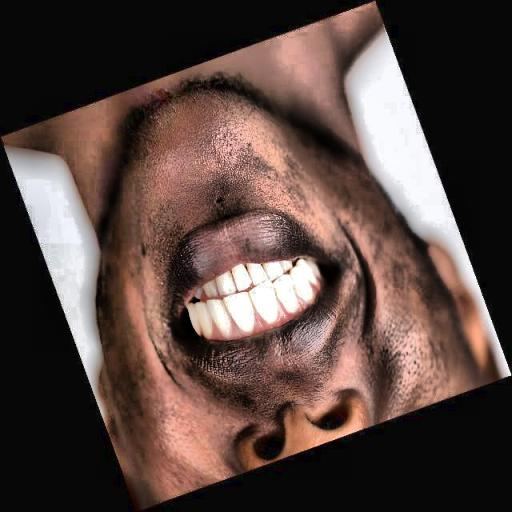Healthy: (164, 244, 374, 342)
